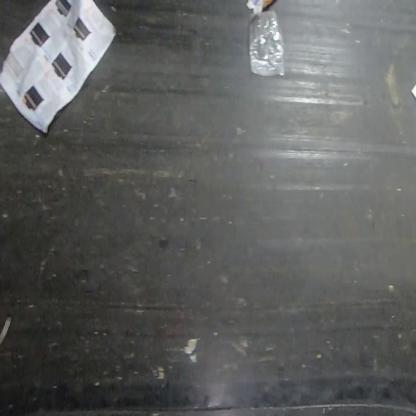soft_plastic: (248, 9, 286, 77)
